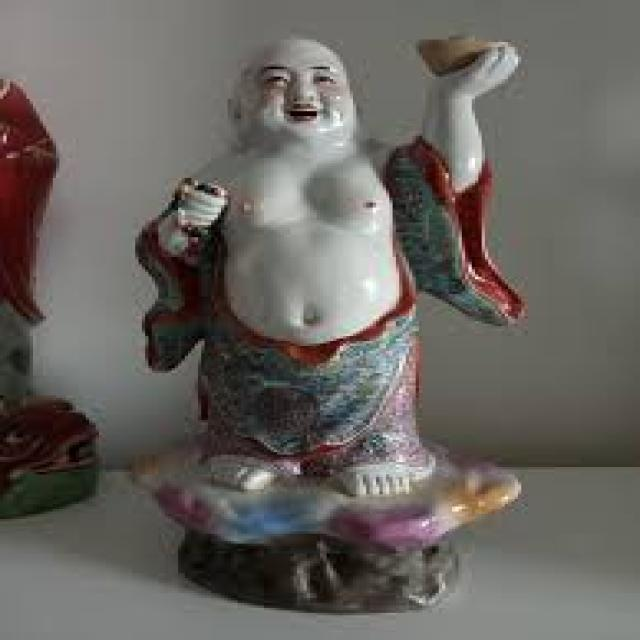Smiling Buddha: (129, 26, 490, 468)
